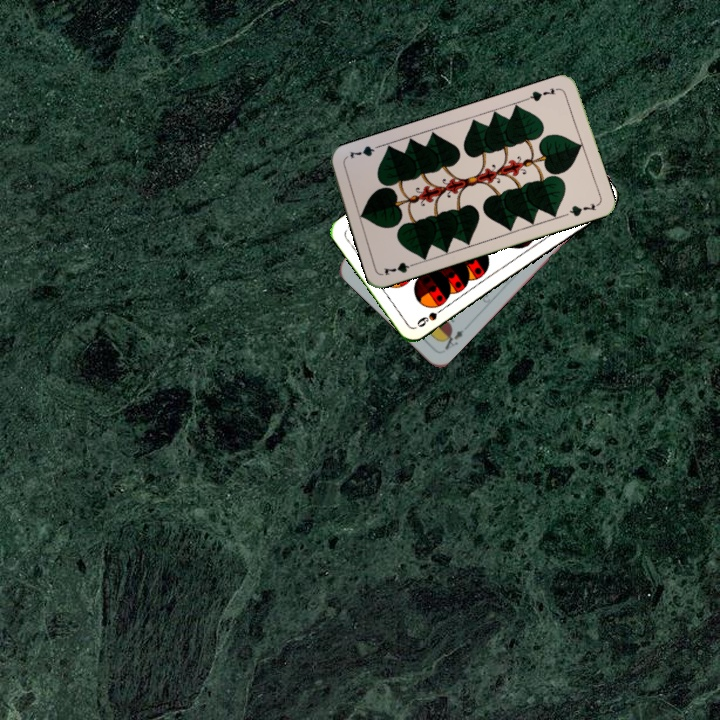EA: (437, 326, 466, 353)
G7: (380, 258, 420, 278), (523, 84, 562, 104)
S9: (413, 302, 448, 330)
